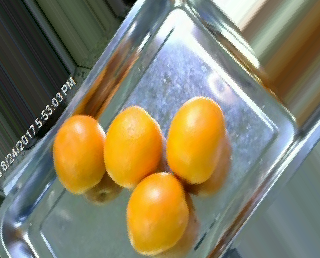Orange: (126, 171, 190, 255), (166, 96, 226, 184), (103, 104, 163, 187), (52, 114, 106, 194)
